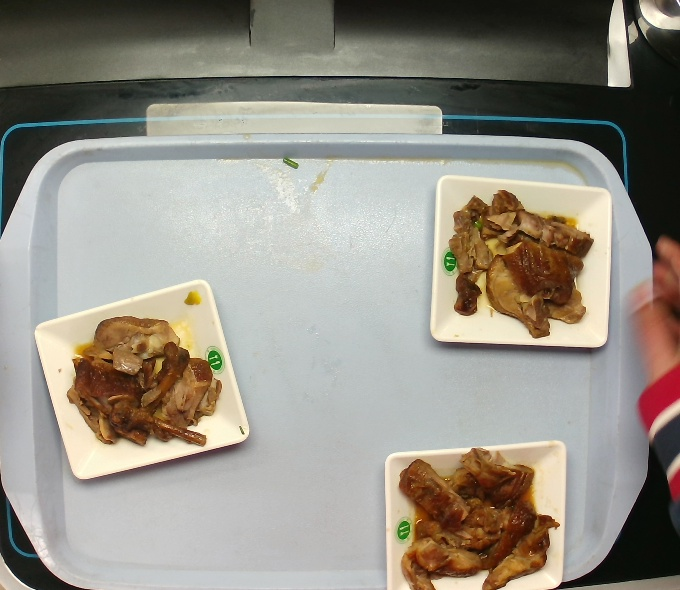wcq-YaRou: (436, 185, 602, 338), (395, 438, 554, 588), (66, 306, 222, 444)
